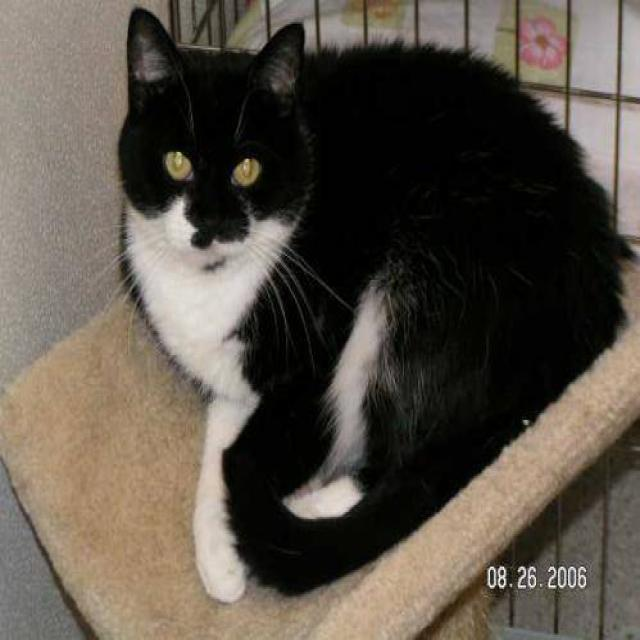cat: (109, 3, 639, 630)
